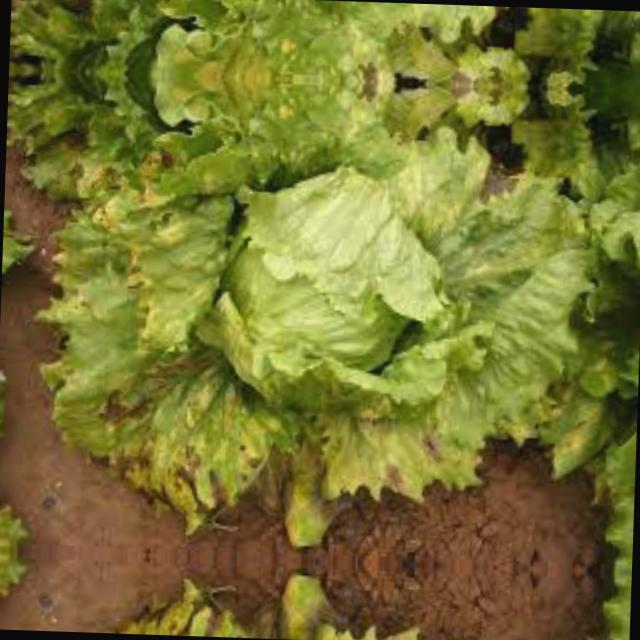Lettuce - Anthracnose: (46, 80, 625, 543), (62, 0, 628, 79), (42, 579, 607, 640)
